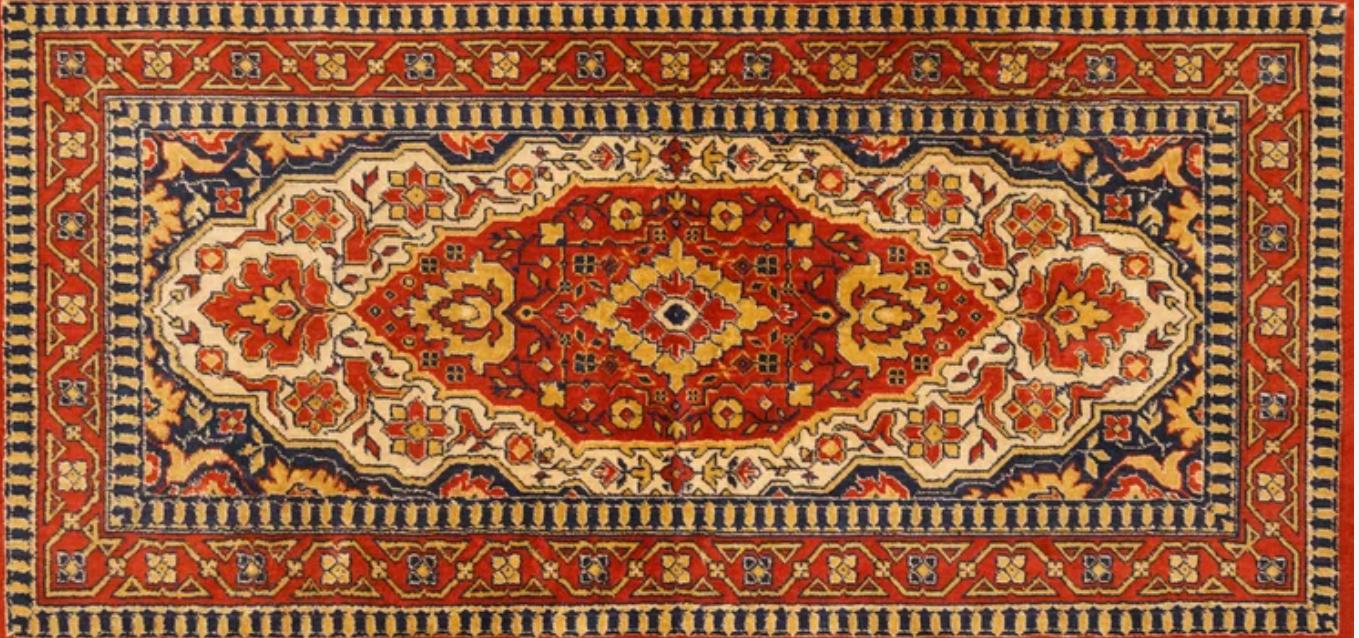carpet: (3, 5, 1348, 634)
